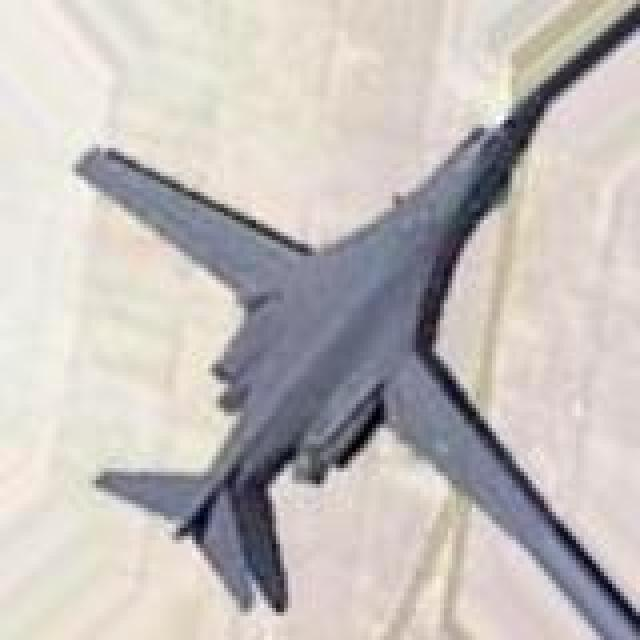B-1_TopDown: (68, 0, 636, 636)
